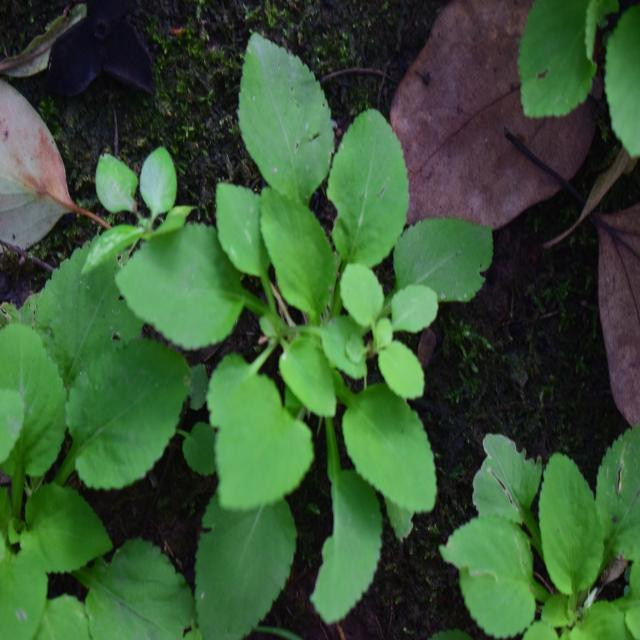Viola: (164, 59, 464, 551)
